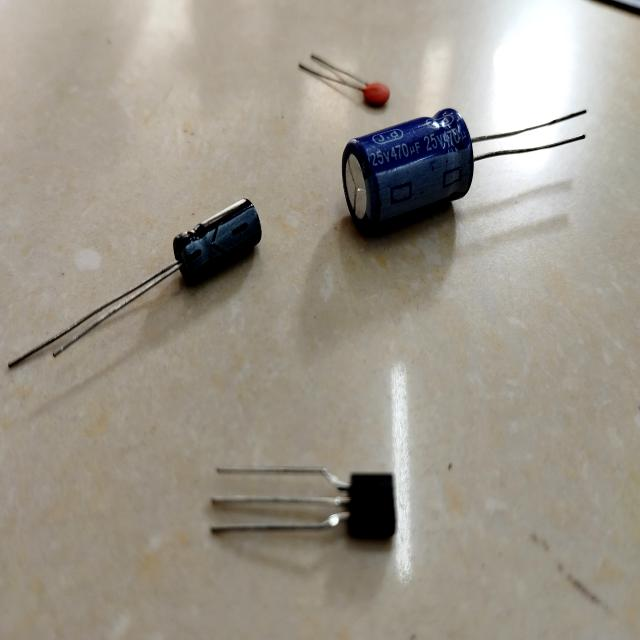capacitor: (356, 112, 473, 217), (174, 205, 262, 304), (363, 83, 390, 110)
